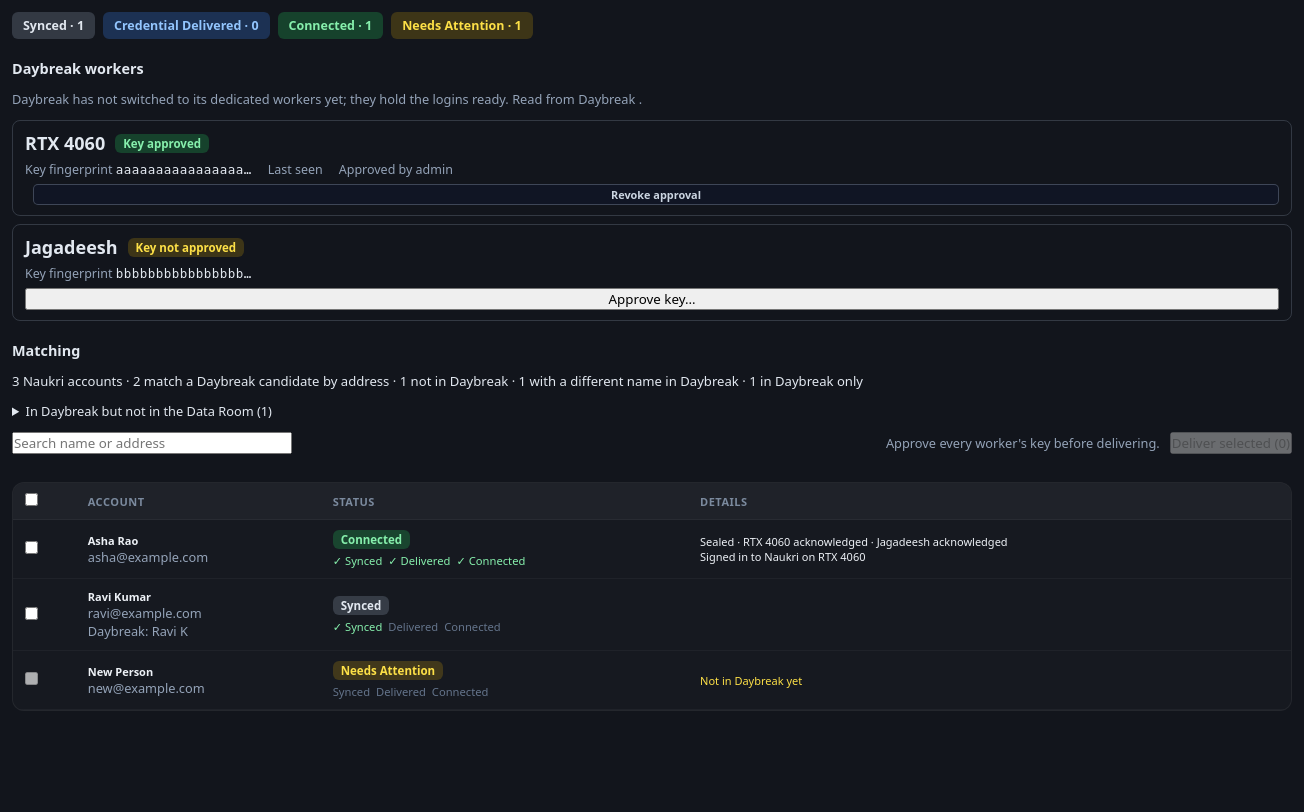
Scenario: DataRoomDaybreakTab › filters by status from the counts
Click the button "Needs Attention · 1".
click(462, 26)  # box [391,12,533,39]
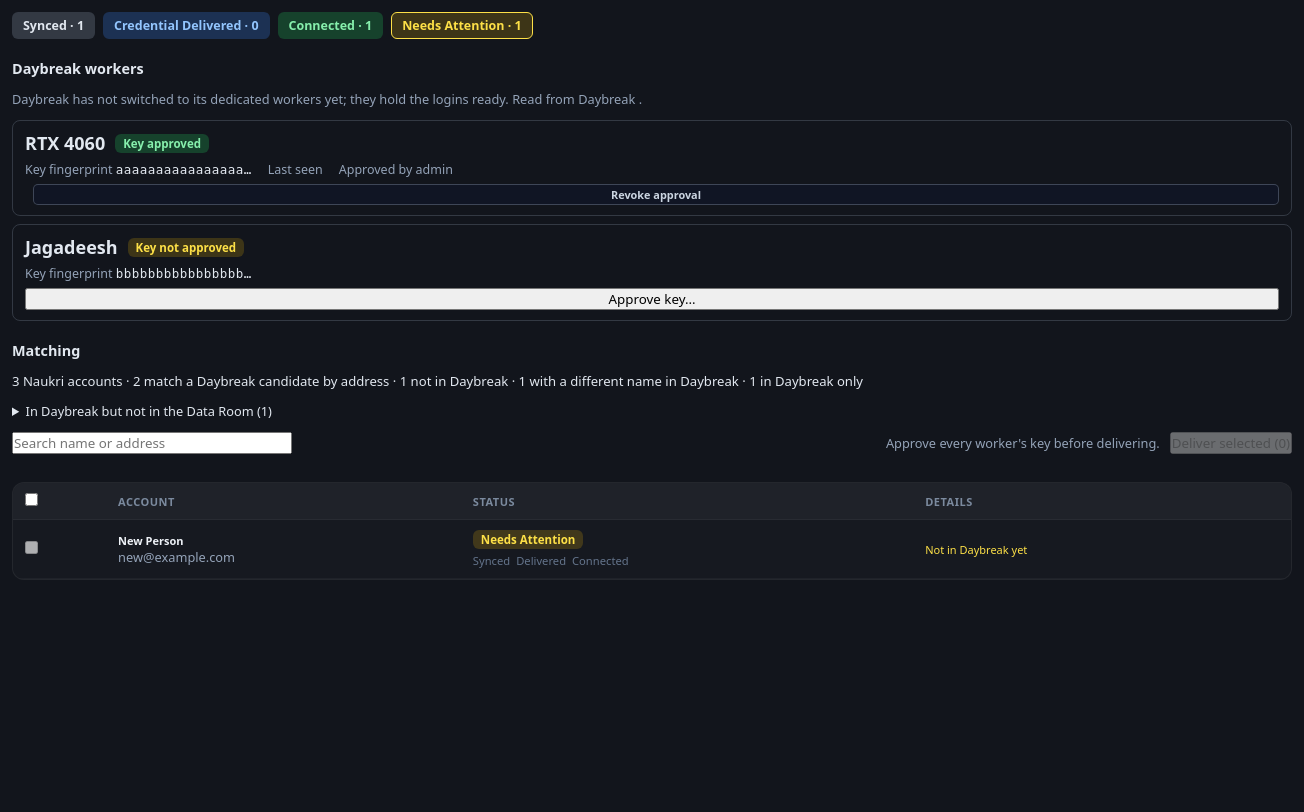
Expected: the text "New Person" is shown, [118,532,184,548]
Result: the text "Asha Rao" is gone
